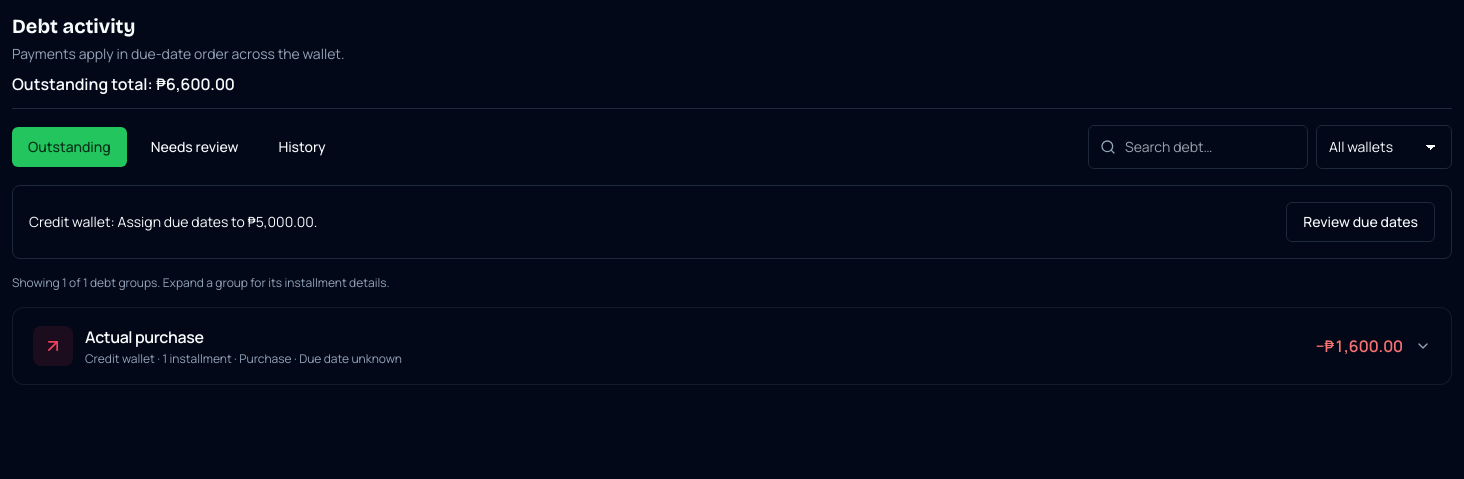
Test: unknown due dates remain unknown and settled audit rows stay in snapshot
Expected: the text "Actual purchase" is shown, [85, 326, 204, 348]
Expected: the text "Credit wallet · 1 installment · Purchase · Due date unknown" is shown, [85, 350, 402, 367]
Click the button "History" at (302, 147), box [262, 127, 342, 167]
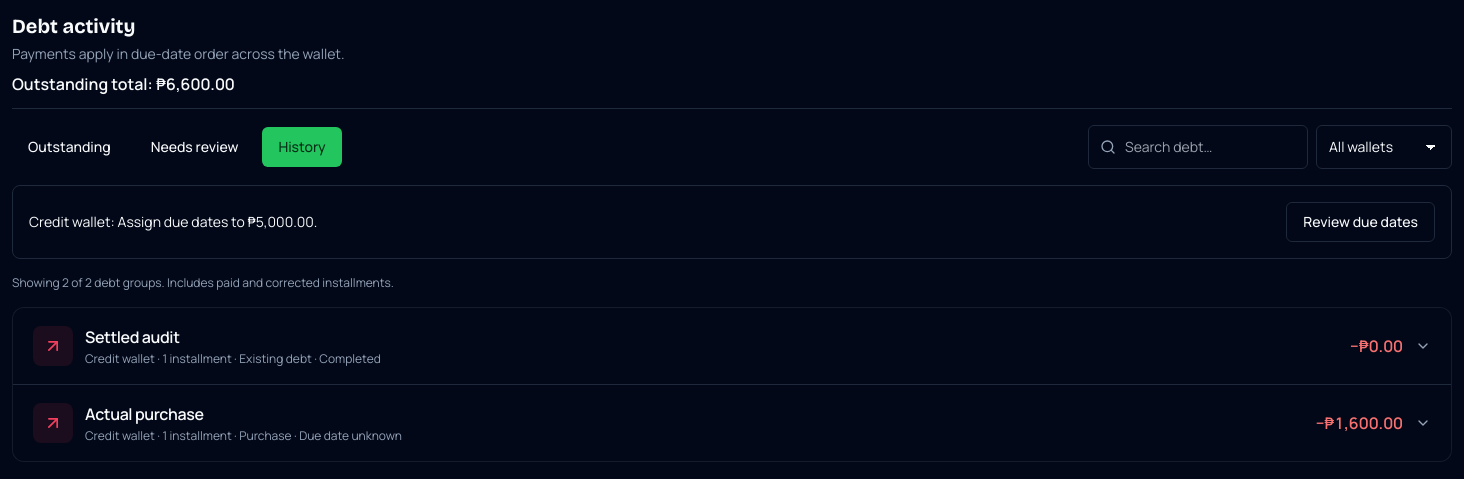
Expected: the text "Settled audit" is shown, [85, 326, 180, 348]
